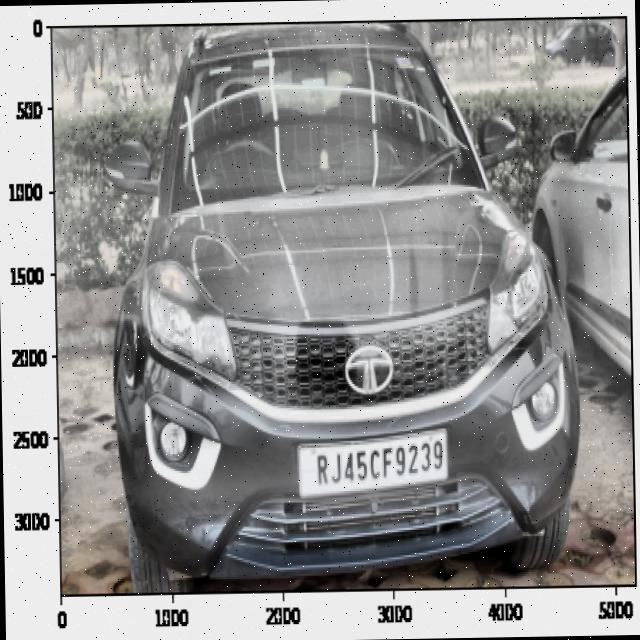license_plate: (307, 432, 450, 490)
